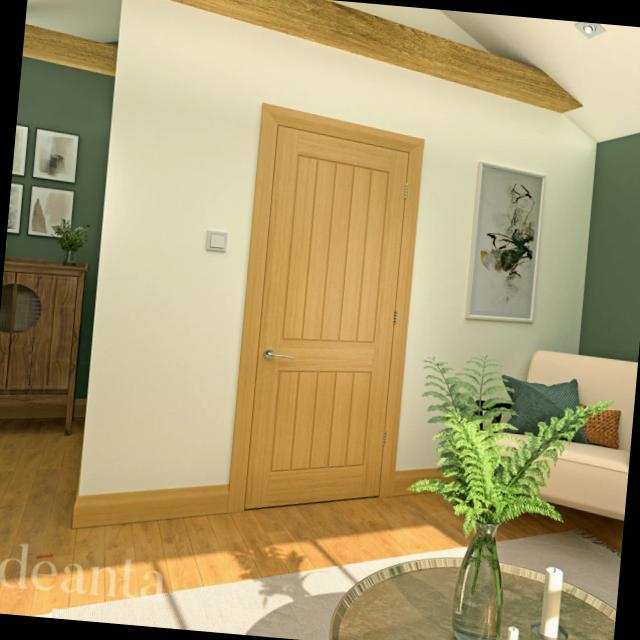door: (227, 104, 422, 518)
